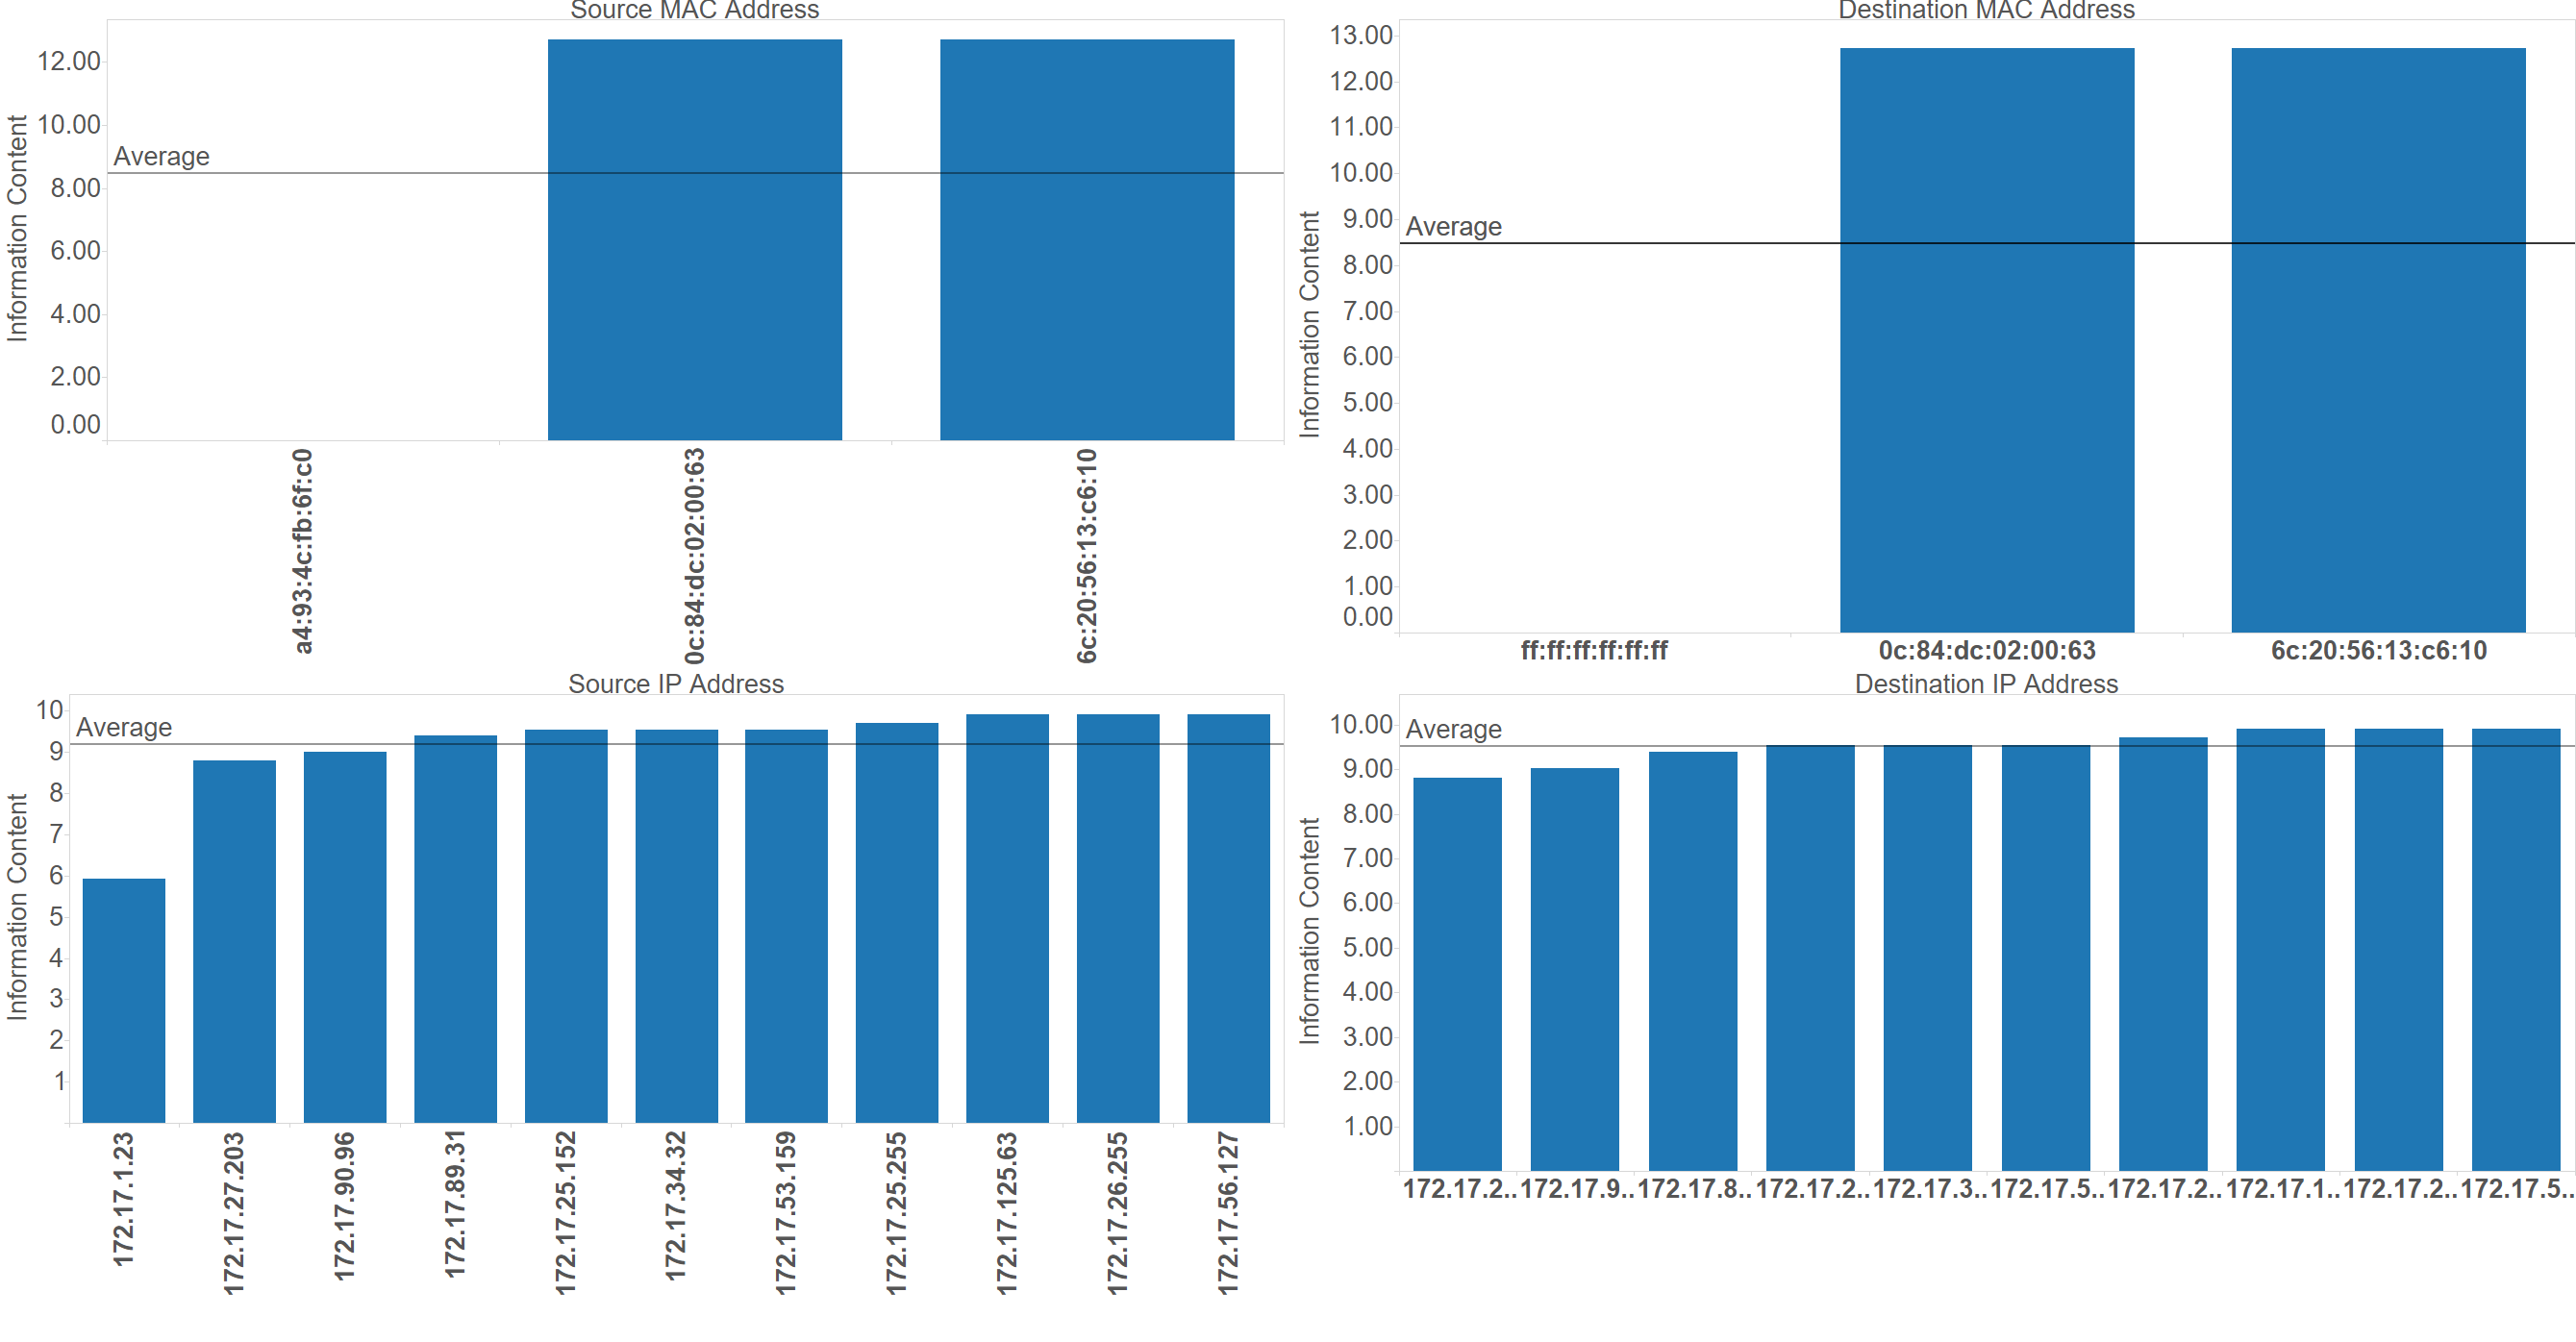

What the dashboard file says about the page in this screenshot:
{"tool":"tableau","page":{"name":"PDFs Dashboard","canvas":[1000,1000],"units":"permille","ordinal":1},"visuals":[{"type":"worksheet","title":"Source MAC PDF","mark":"Automatic","rows":["Calculation_558446359774420994"],"cols":["hwsrc"],"box":[0,0,500,500]},{"type":"worksheet","title":"Destination MAC PDF","mark":"Automatic","rows":["Calculation_558446359774584835"],"cols":["hwdst"],"box":[500,0,500,500]},{"type":"worksheet","title":"Source IP PDF","mark":"Automatic","rows":["Calculation_558446359785705483"],"cols":["ipsrc"],"box":[0,500,500,500]},{"type":"worksheet","title":"Destination IP PDF","mark":"Automatic","rows":["Calculation_558446359774961669"],"cols":["ipdst"],"box":[500,500,500,500]}]}

Visuals, with their boxes on the dashboard's canvas, which has no fixed pixel size, in thousandths of its width and height (x1, y1, x2, y2). These are canvas units, not pixel positions in the 2576x1342 screenshot, which may show the page scaled, cropped or inside an application window:
"Source MAC PDF" worksheet: pyautogui.locateOnScreen(0, 0, 500, 500)
"Destination MAC PDF" worksheet: pyautogui.locateOnScreen(500, 0, 1000, 500)
"Source IP PDF" worksheet: pyautogui.locateOnScreen(0, 500, 500, 1000)
"Destination IP PDF" worksheet: pyautogui.locateOnScreen(500, 500, 1000, 1000)
